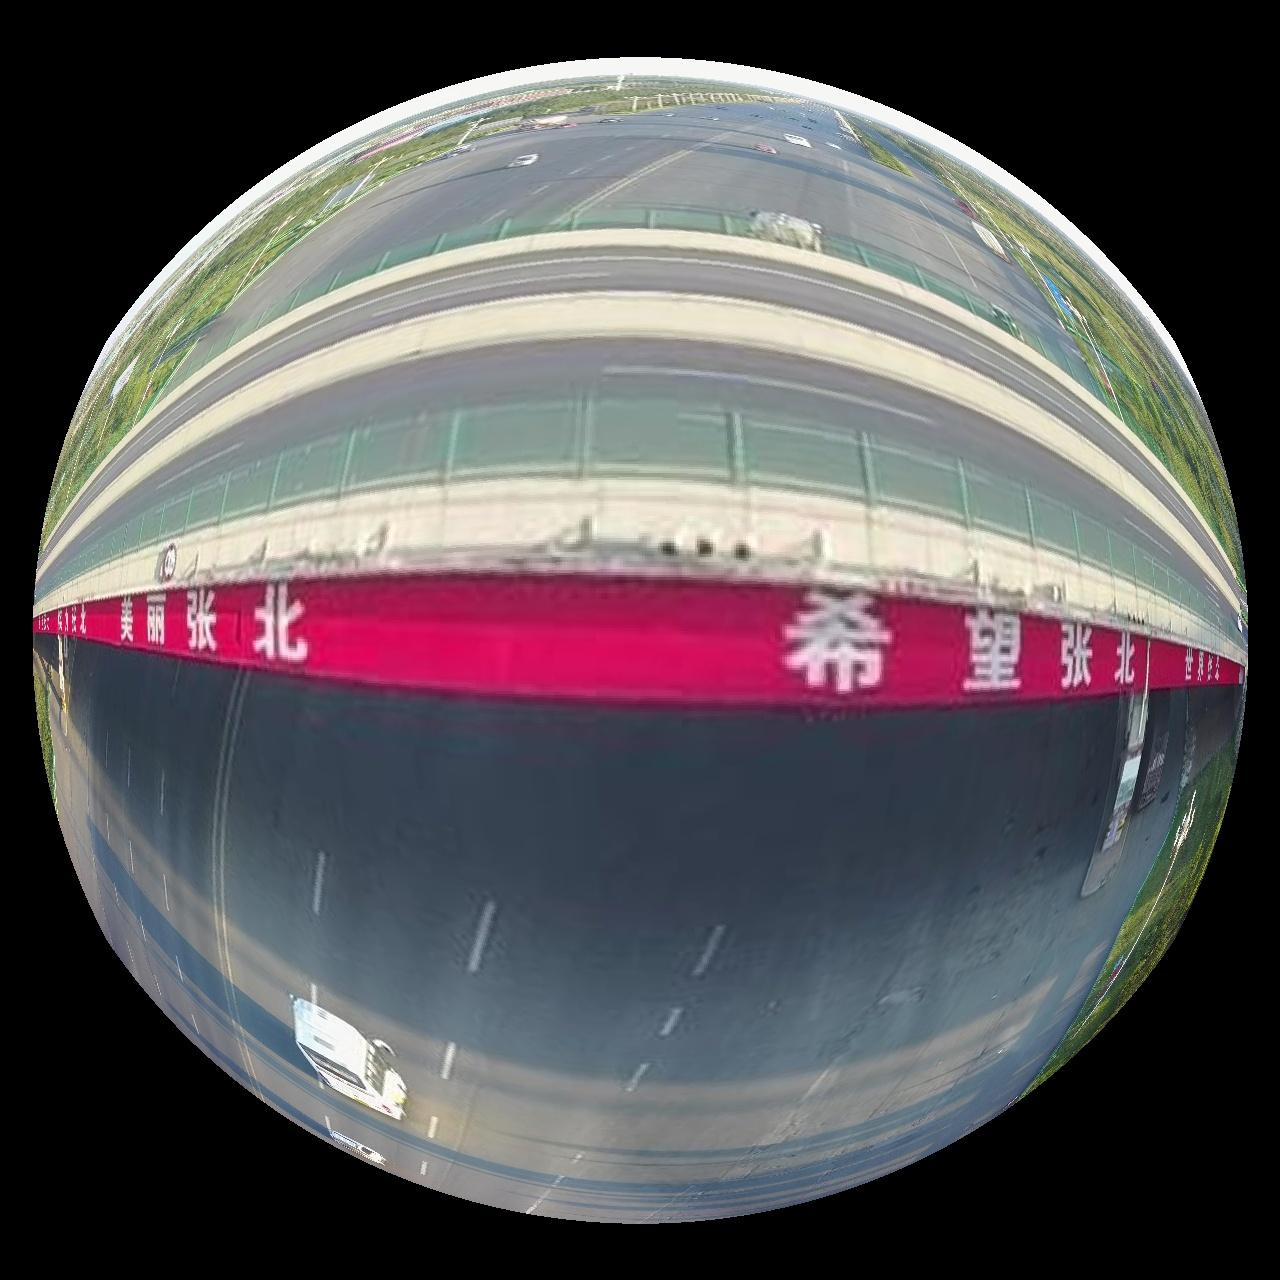cars: (292, 998, 406, 1122), (508, 151, 540, 166)
